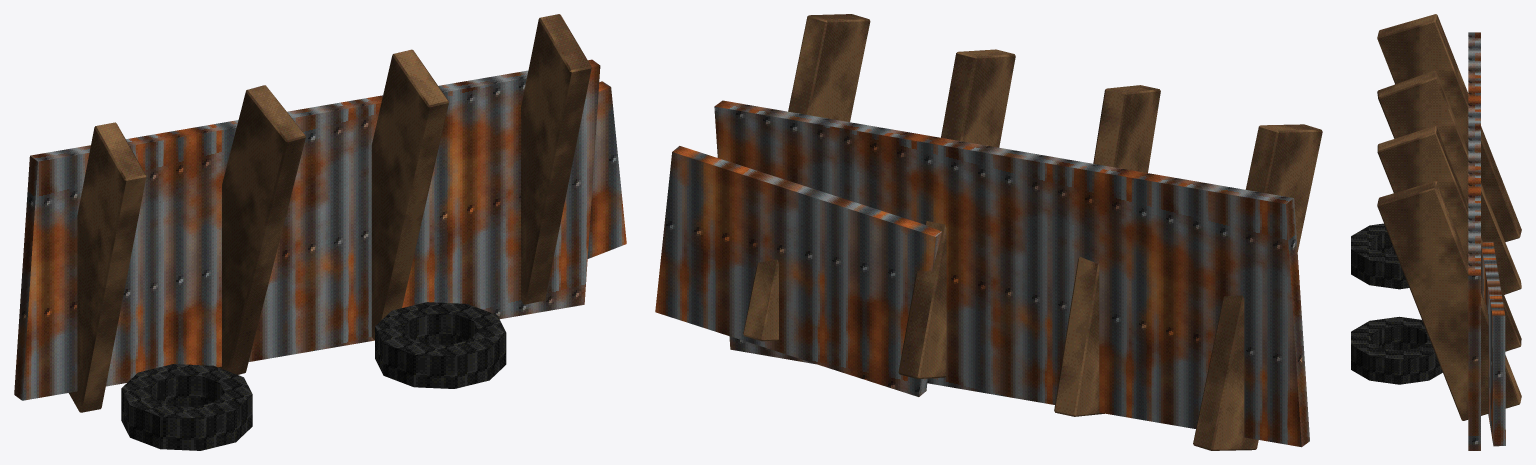
Rendered from ext_barricade.glb.
3 views of the same model, side by side, from view 1: azimuth 30°, elevation 25°; view 2: azimuth 150°, elevation 25°; view 3: azimuth 270°, elevation 25° (orthographic). The views are drawn at different scales.
Parts seen in each view (by area): view 1: ext_barricade_mesh; view 2: ext_barricade_mesh; view 3: ext_barricade_mesh.
Boxes of the visible parts, x1=… form: ext_barricade_mesh: x1=14, y1=14, x2=626, y2=450; ext_barricade_mesh: x1=655, y1=14, x2=1322, y2=450; ext_barricade_mesh: x1=1351, y1=14, x2=1521, y2=450.
Size of what is drawn, in the model's own units: 4.4 by 2.16 by 1.36.
Materials: 3 (3 with a texture image).
